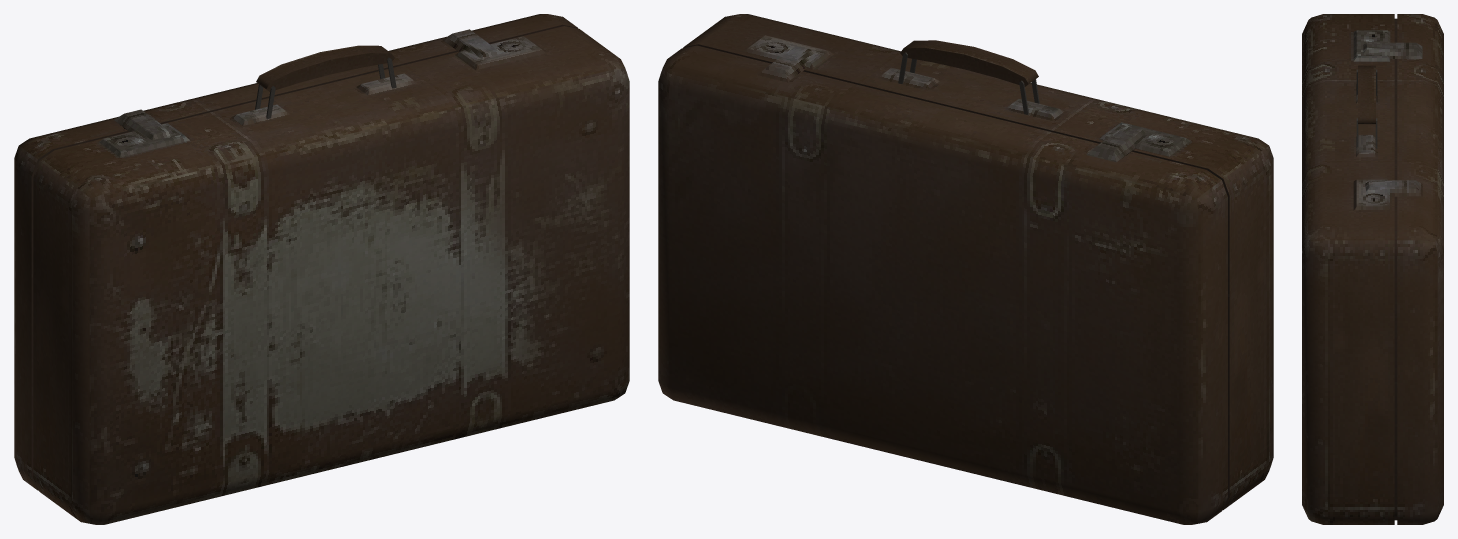
Rendered from luggage_mp_1.glb.
The picture shows the model from 3 angles, left to right: view 1: azimuth 30°, elevation 25°; view 2: azimuth 150°, elevation 25°; view 3: azimuth 270°, elevation 25°; orthographic projection. The views are drawn at different scales.
Visible parts, largest first — view 1: luggage_mp_1; view 2: luggage_mp_1; view 3: luggage_mp_1.
Boxes of the visible parts, box(x1,y1,x2,y2) form: luggage_mp_1: box(14, 14, 629, 524); luggage_mp_1: box(658, 14, 1273, 524); luggage_mp_1: box(1302, 14, 1443, 524).
Bounding box in the file's own units: 0.7726 × 0.5268 × 0.2.
1 material, 1 textured.
